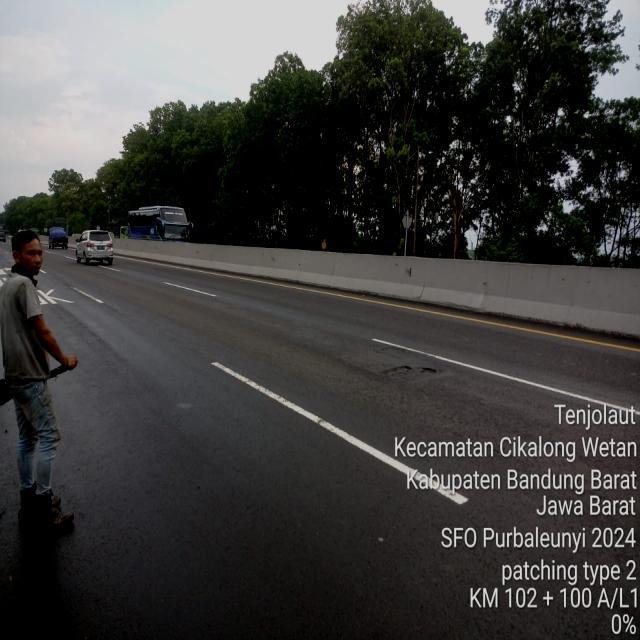Buraco: (378, 364, 414, 379), (418, 366, 439, 375)
